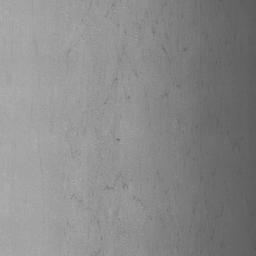Silk spot: (133, 196, 146, 210), (118, 45, 126, 65), (250, 208, 256, 216)
